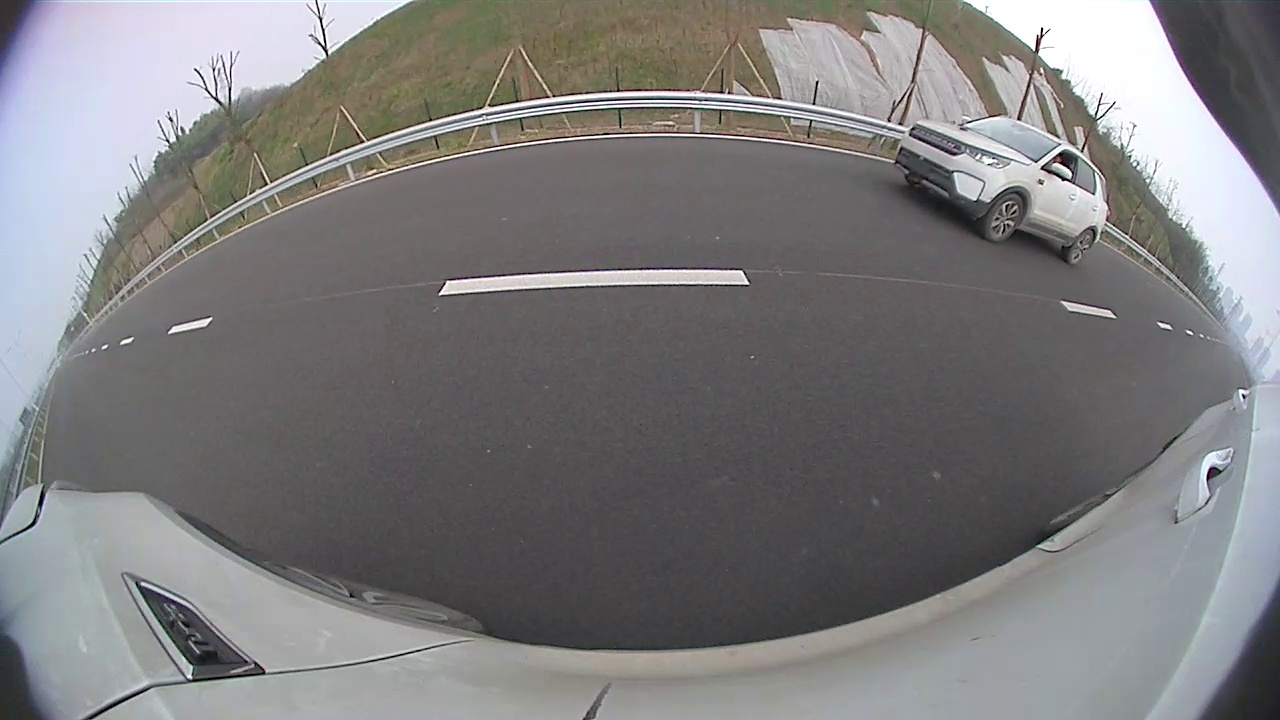car: (894, 115, 1110, 265)
front: (985, 193, 1024, 243)
rear: (1066, 229, 1096, 265)
